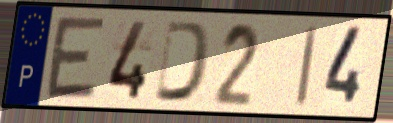2: (211, 20, 263, 109)
4: (322, 22, 367, 113), (105, 18, 149, 101)
D: (152, 18, 215, 105)
E: (42, 14, 109, 102)
I: (293, 23, 321, 110)
